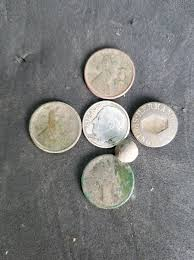coin: (81, 154, 133, 208), (29, 101, 81, 152), (84, 48, 134, 98), (83, 101, 129, 147), (131, 102, 177, 146)
